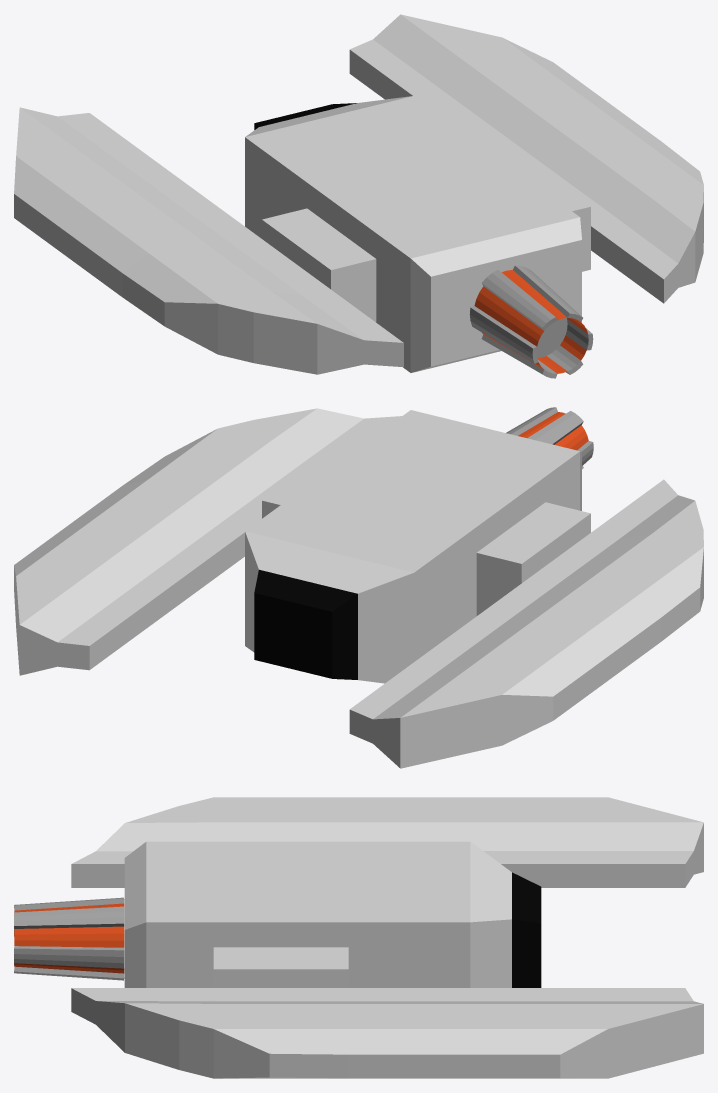
The model's file is ShipM5.fbx.
The picture shows the model from 3 angles, top to bottom: view 1: azimuth 30°, elevation 25°; view 2: azimuth 150°, elevation 25°; view 3: azimuth 270°, elevation 25°; orthographic projection. The views are drawn at different scales.
Parts seen in each view (by area): view 1: Cube, Cylinder; view 2: Cube, Cylinder; view 3: Cube, Cylinder.
Boxes of the visible parts, <box> form: Cube: <box>14,14,703,374</box>; Cylinder: <box>469,265,593,378</box>; Cube: <box>14,408,703,768</box>; Cylinder: <box>506,407,593,469</box>; Cube: <box>71,797,703,1078</box>; Cylinder: <box>14,897,124,980</box>.
Size of the model in its own units: 829 by 169 by 941.
